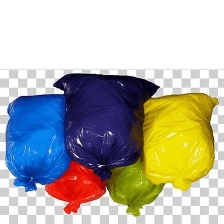plastic_bag: (49, 70, 160, 184), (137, 86, 222, 192), (2, 90, 86, 193), (37, 156, 114, 216), (101, 157, 166, 219)
